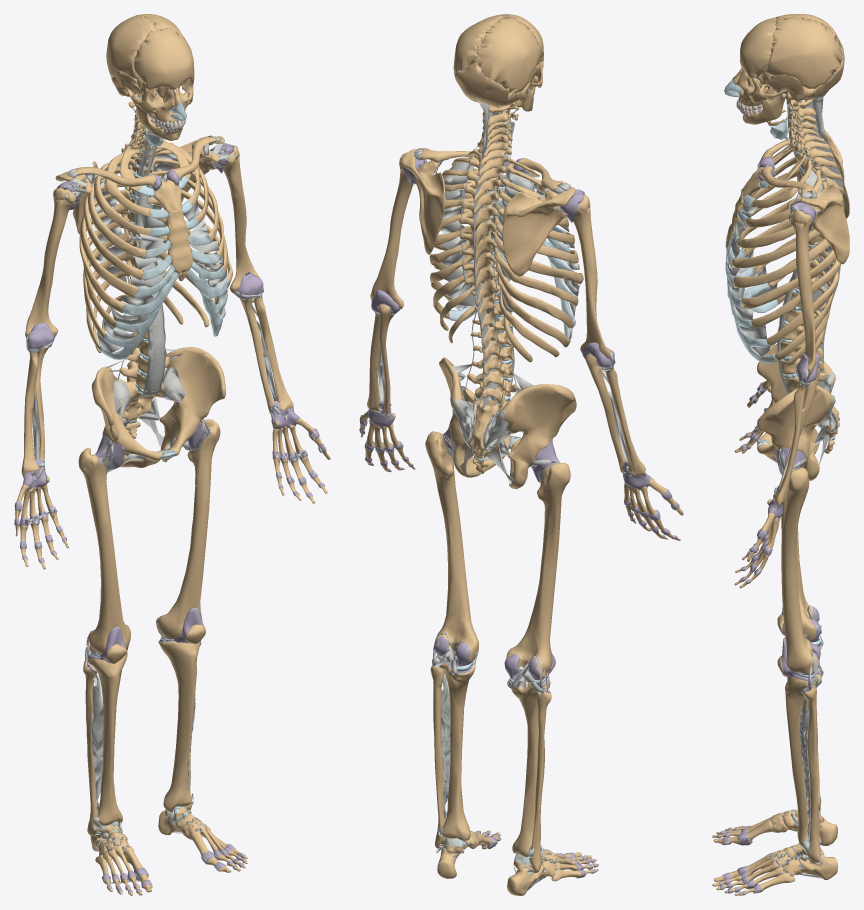
File: skeleton.glb
3 views of the same model, side by side, from view 1: azimuth 30°, elevation 25°; view 2: azimuth 150°, elevation 25°; view 3: azimuth 270°, elevation 25° (orthographic). The views are drawn at different scales.
Parts seen in each view (by area): view 1: Object_9, Object_57, Object_4, Object_42; view 2: Object_9, Object_57, Object_4, Object_42; view 3: Object_9, Object_57, Object_4, Object_42.
Part boxes in pixels (x1,y1,x2,y2): Object_9: [15, 14, 330, 895]; Object_57: [16, 108, 325, 886]; Object_4: [14, 143, 326, 893]; Object_42: [21, 95, 307, 889]; Object_9: [360, 14, 683, 895]; Object_57: [361, 99, 673, 891]; Object_4: [359, 154, 679, 878]; Object_42: [388, 89, 632, 877]; Object_9: [712, 14, 849, 895]; Object_57: [722, 90, 843, 893]; Object_4: [717, 157, 822, 895]; Object_42: [724, 79, 824, 876].
Size of the model in its own units: 0.6692 by 1.7 by 0.25.
5 materials, 5 textured.
